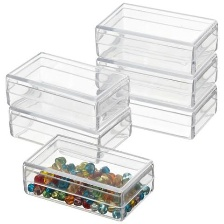plastic_box: (88, 0, 224, 144), (0, 46, 137, 164), (16, 129, 161, 223)
